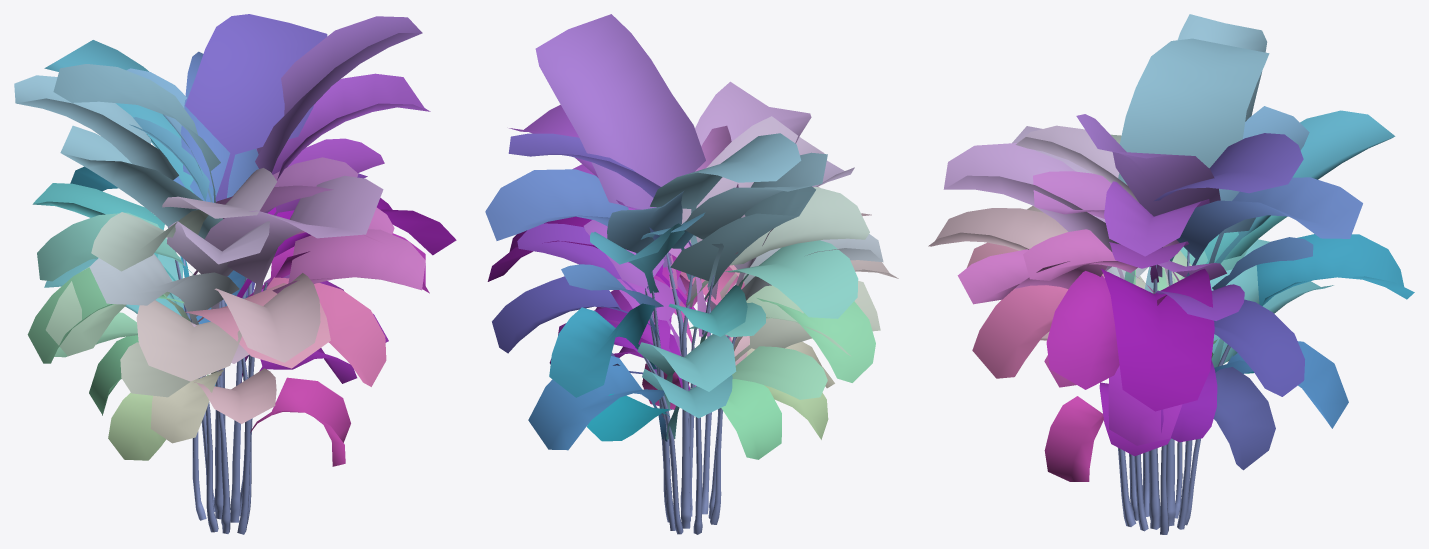
The picture shows the model from 3 angles, left to right: view 1: azimuth 30°, elevation 25°; view 2: azimuth 150°, elevation 25°; view 3: azimuth 270°, elevation 25°; orthographic projection. The views are drawn at different scales.
Visible parts, largest first — view 1: SM_BS_ArecaPalm_360cm_HD; view 2: SM_BS_ArecaPalm_360cm_HD; view 3: SM_BS_ArecaPalm_360cm_HD.
Part boxes in pixels (box(x1,y1,x2,y2)): SM_BS_ArecaPalm_360cm_HD: box(14, 14, 456, 534); SM_BS_ArecaPalm_360cm_HD: box(485, 14, 898, 534); SM_BS_ArecaPalm_360cm_HD: box(928, 14, 1414, 534).
Size of the model in its own units: 124 by 112 by 132.
